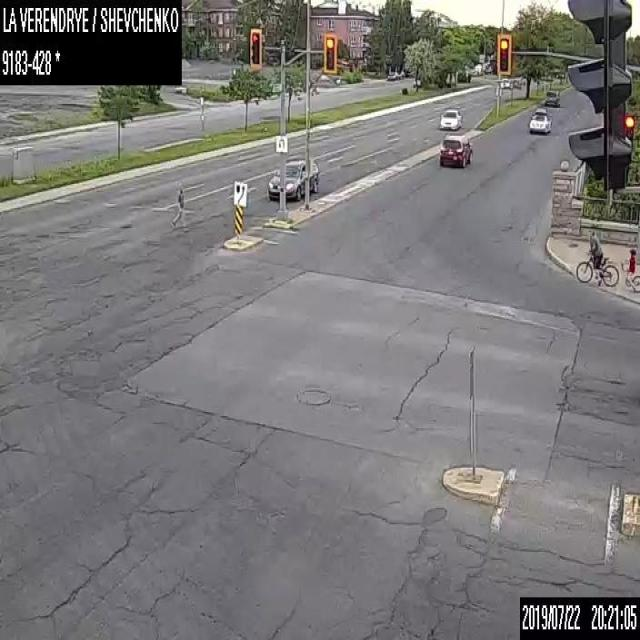cyclist: (575, 232, 619, 286), (622, 245, 639, 292)
pedestrian: (171, 187, 184, 228)
vehicle: (267, 157, 320, 200), (438, 132, 472, 168), (529, 107, 552, 133), (439, 107, 462, 129), (543, 88, 560, 106), (386, 70, 398, 80), (396, 70, 404, 78)
